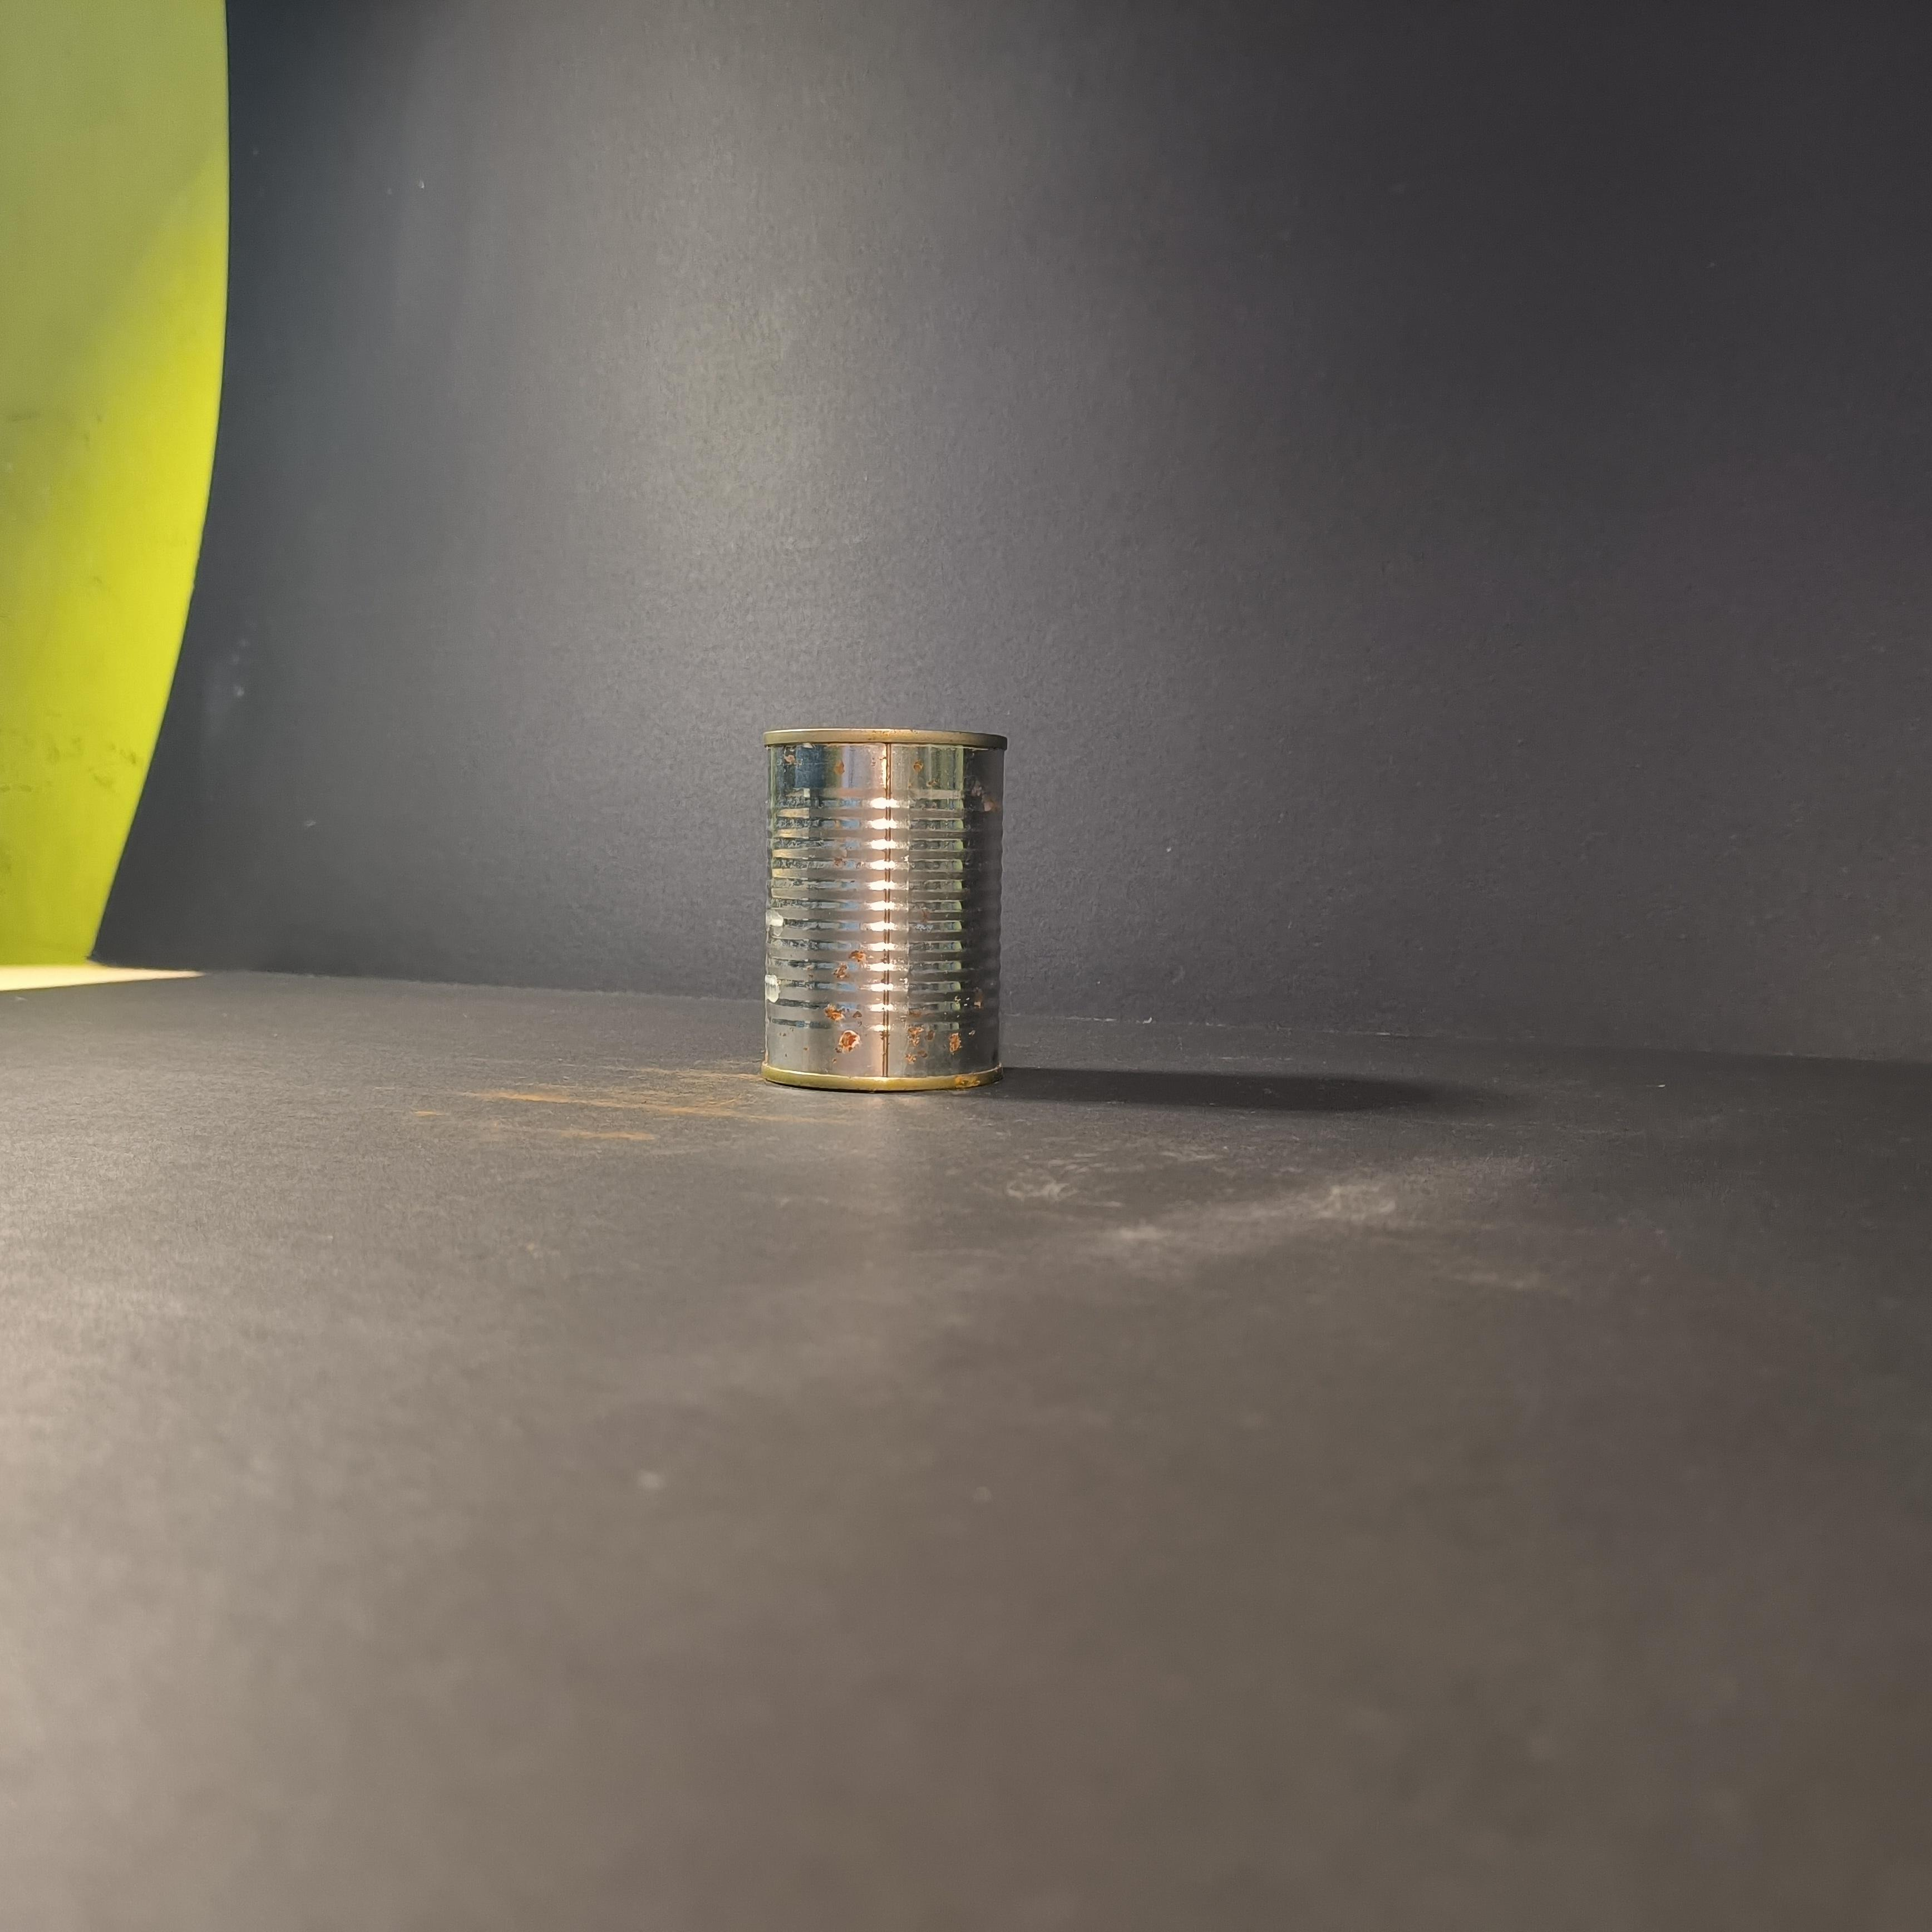Rusted: (745, 713, 1026, 1122)
